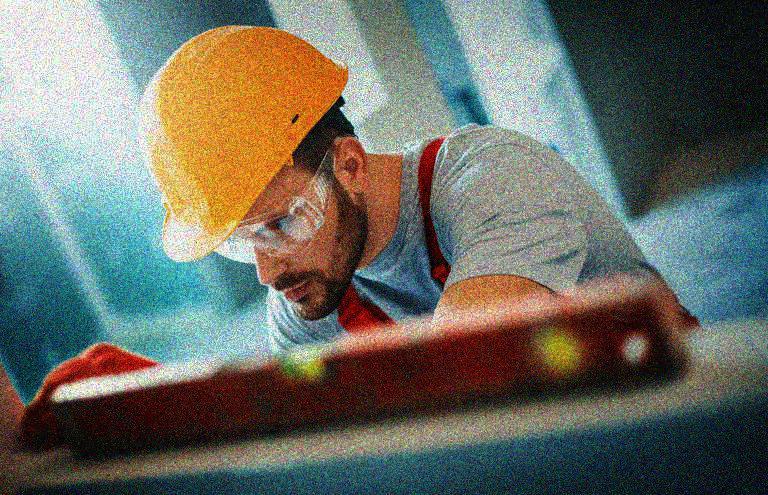helmet: (134, 22, 362, 320)
